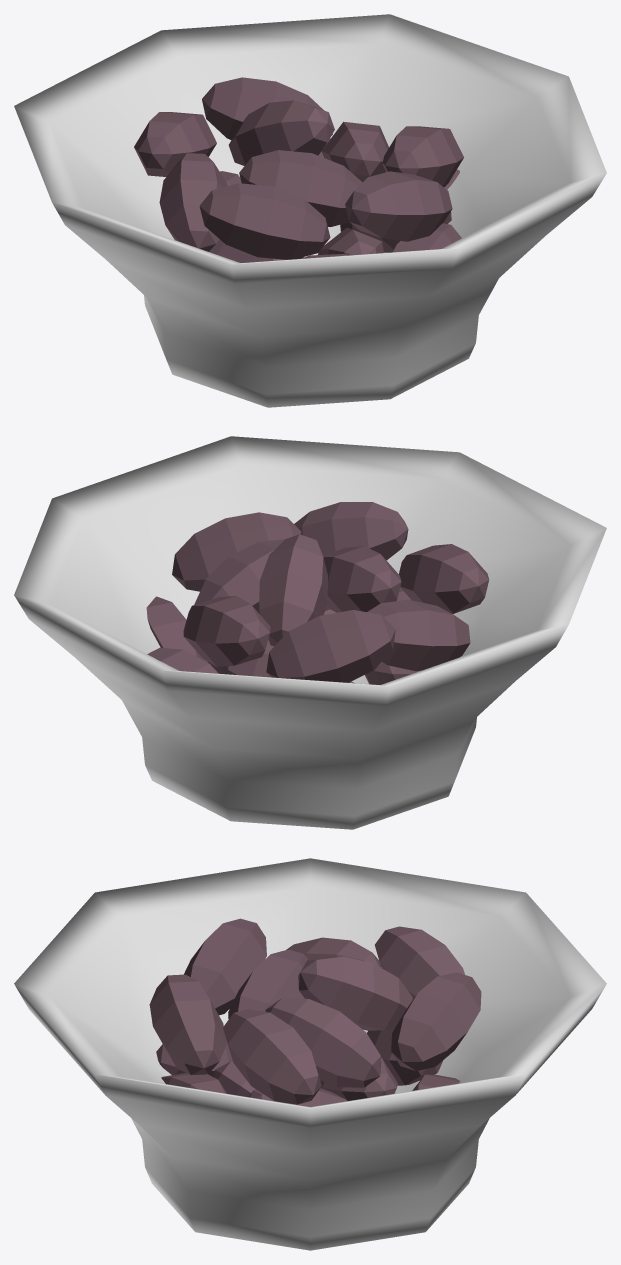
Rendered from RaisinDish.fbx.
3 renders of one model, top to bottom at view 1: azimuth 30°, elevation 25°; view 2: azimuth 150°, elevation 25°; view 3: azimuth 270°, elevation 25°, orthographic.
Visible parts, largest first — view 1: RaisinDish; view 2: RaisinDish; view 3: RaisinDish.
Part boxes in pixels (box(x1,y1,x2,y2)): RaisinDish: box(14, 14, 606, 407); RaisinDish: box(14, 436, 606, 829); RaisinDish: box(14, 858, 606, 1250).
Size of the model in its own units: 21.49 by 21.49 by 9.49.
